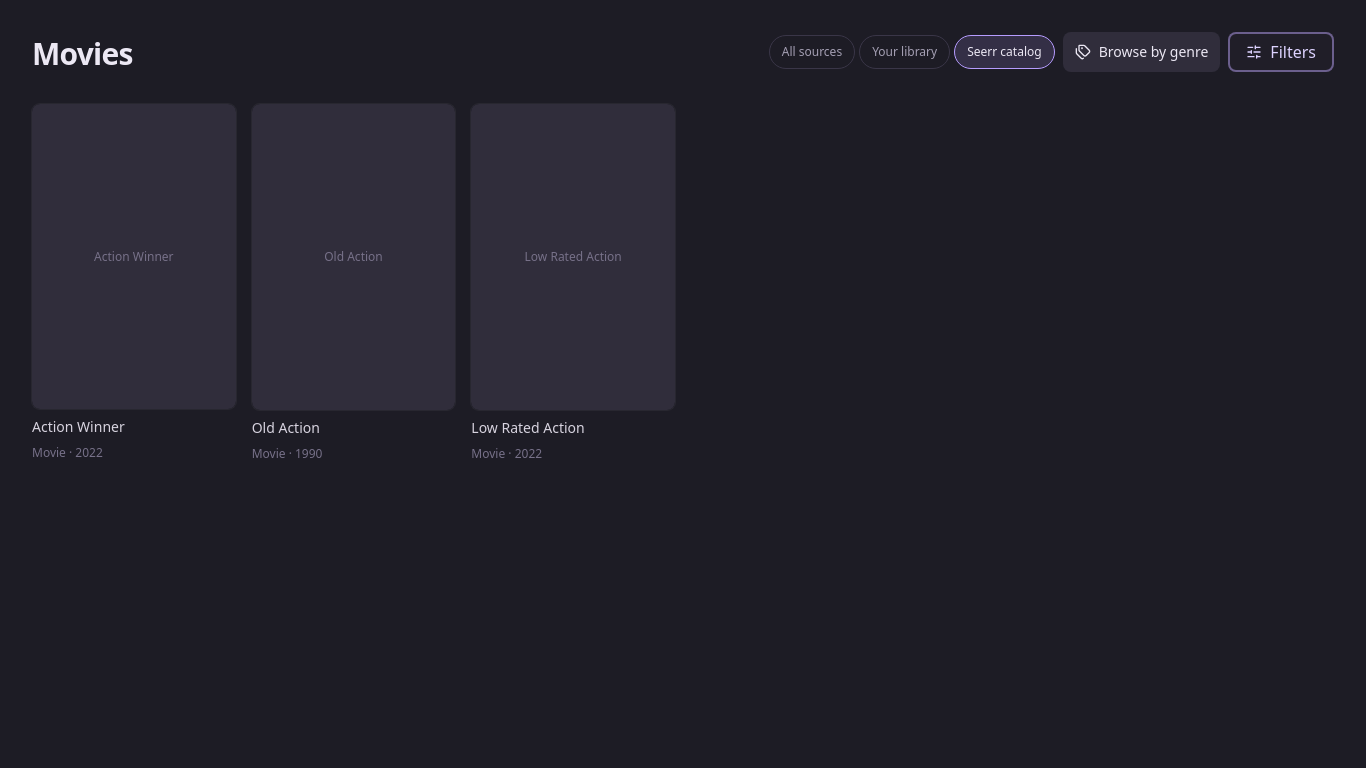
it: library filters UI › shows the filter panel for Seerr and applies genre, year and rating filters
Click the button "Filters".
click(1281, 52)  # box [1228, 32, 1334, 72]
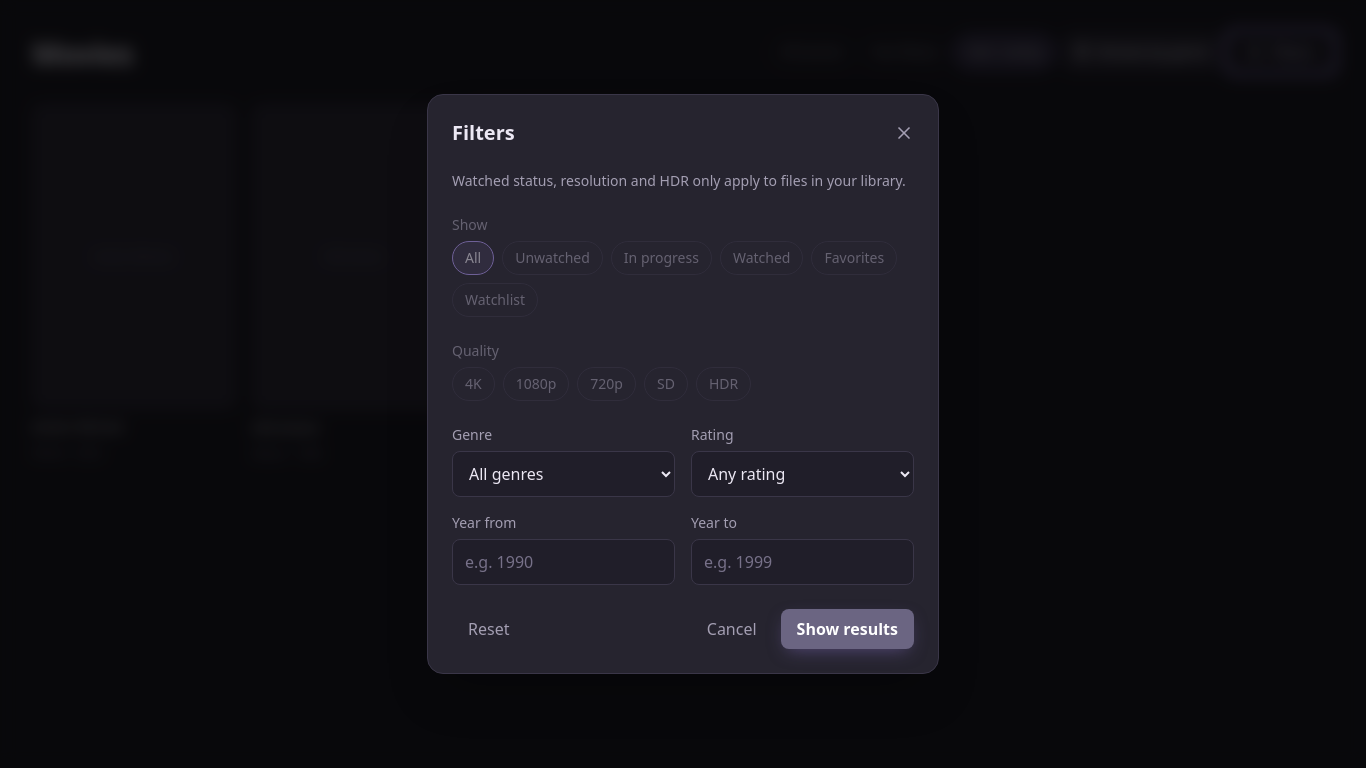
Result: the text "Watched status, resolution and HDR only apply to files in your library." is shown at [452, 171, 914, 191]
Result: the element "Unwatched" is disabled at [452, 215, 914, 317]
Select "Action" in the dropdown labelled "Genre" at (564, 474), box [452, 451, 675, 497]
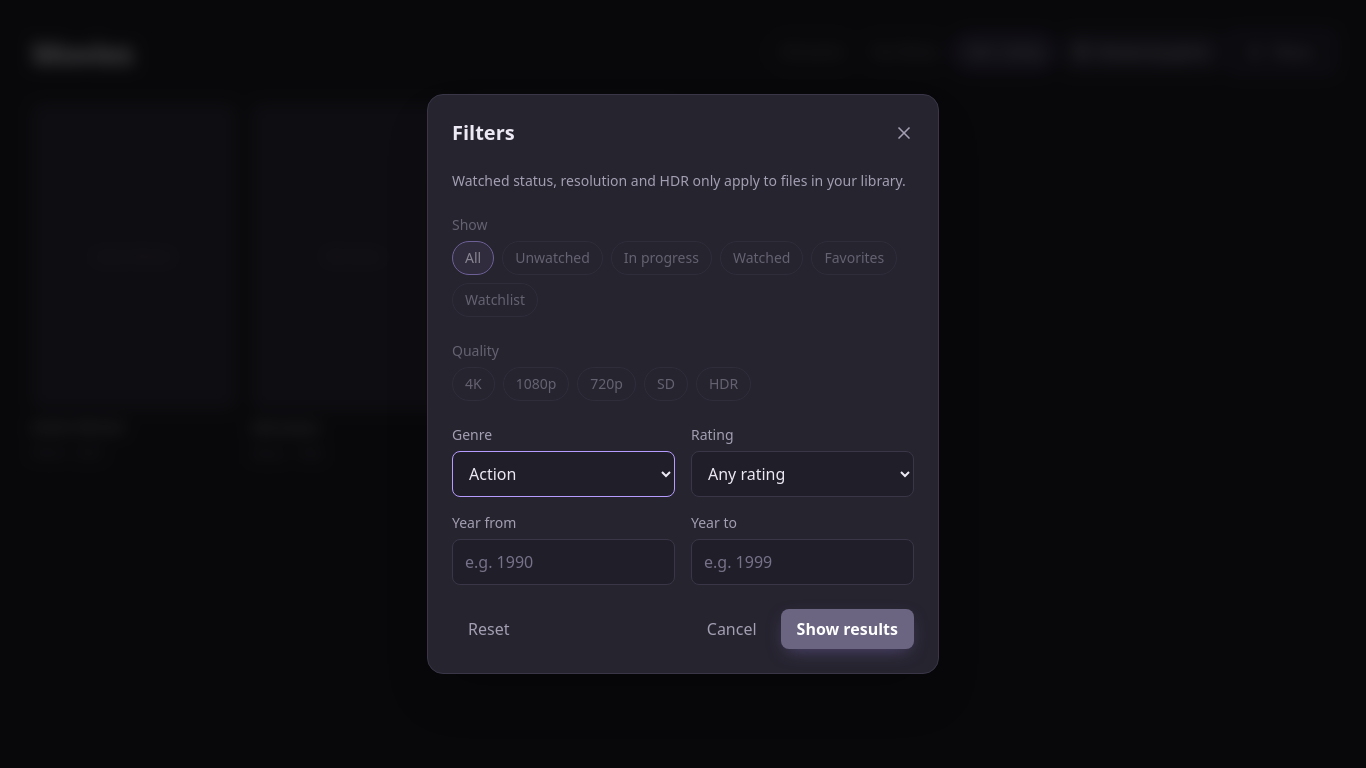
Select "7+" in the dropdown labelled "Rating" at (802, 474), box [691, 451, 914, 497]
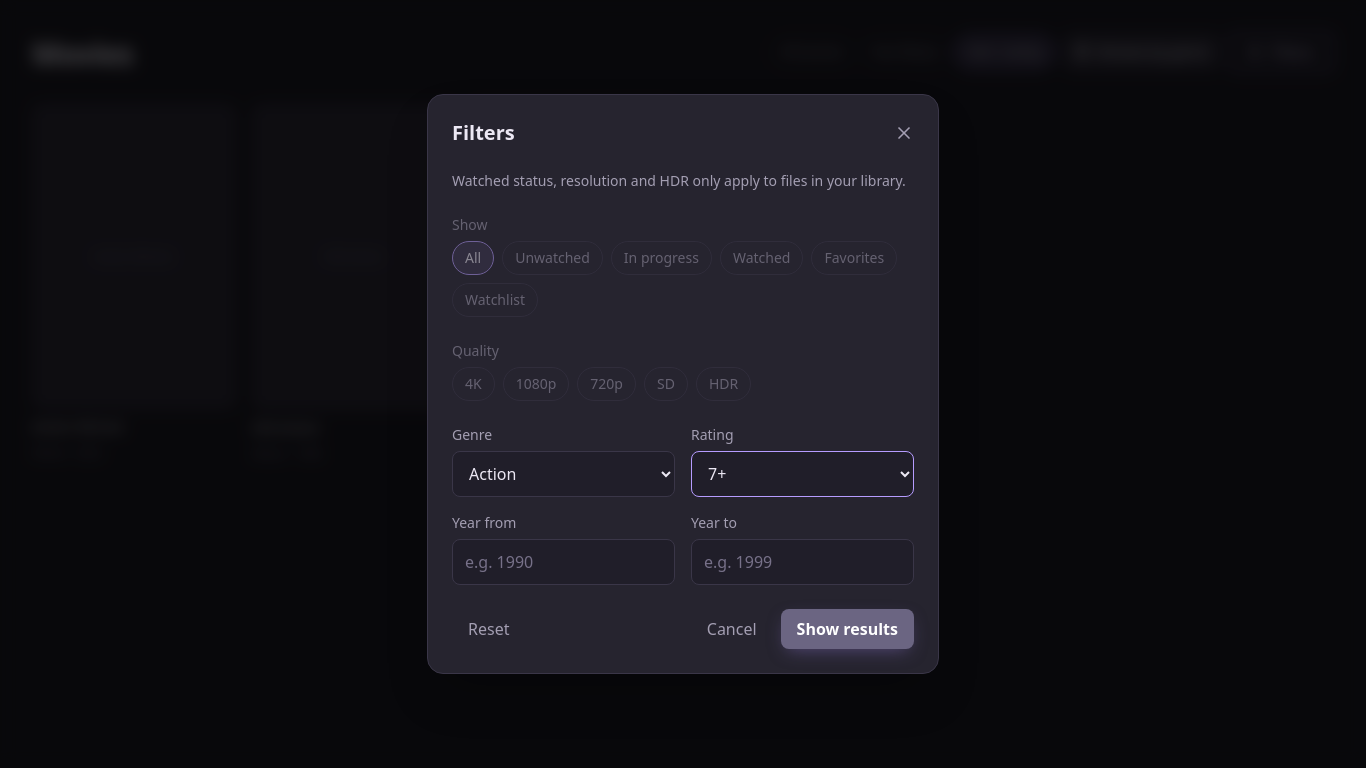
Type "2000" into the number field labelled "Year from".
click(564, 562); type("2000")  # box [452, 539, 675, 585]
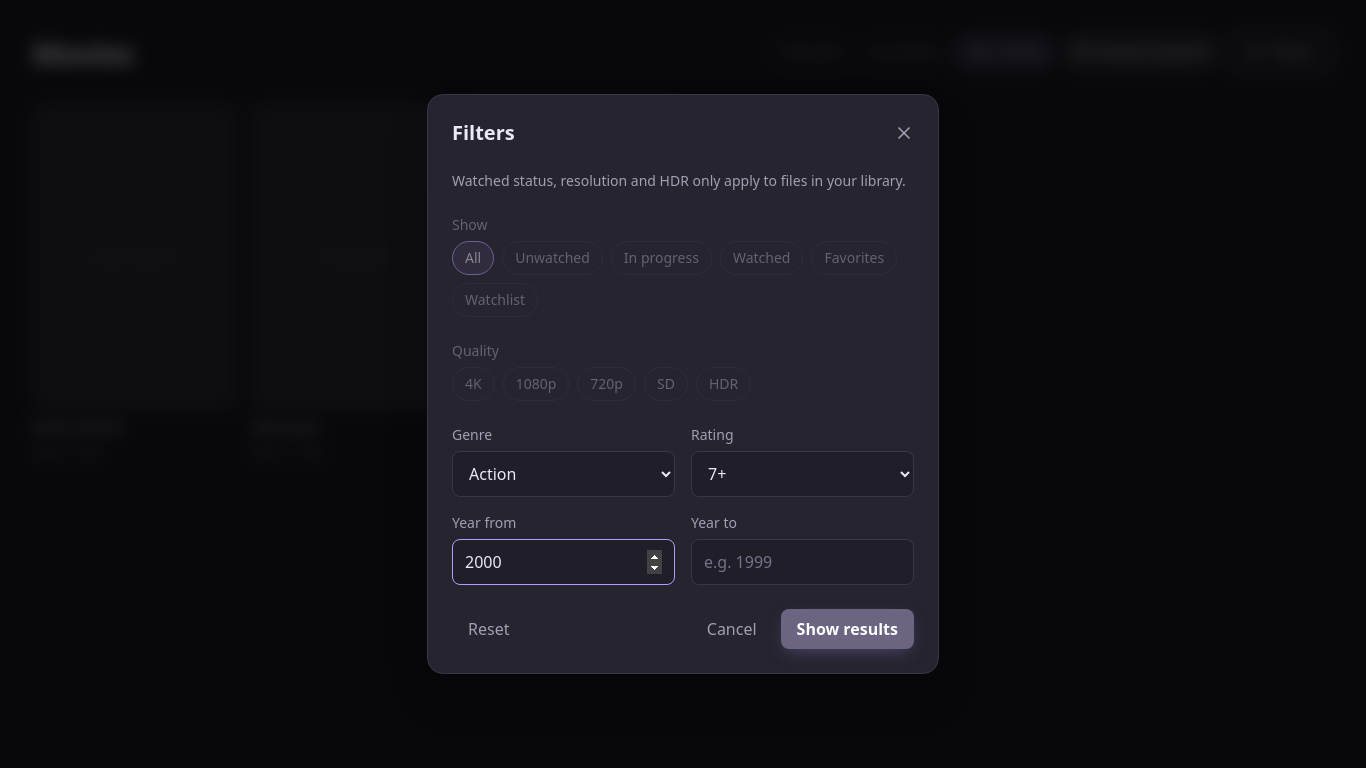
Click the button "Show results".
click(847, 629)  # box [781, 609, 914, 649]
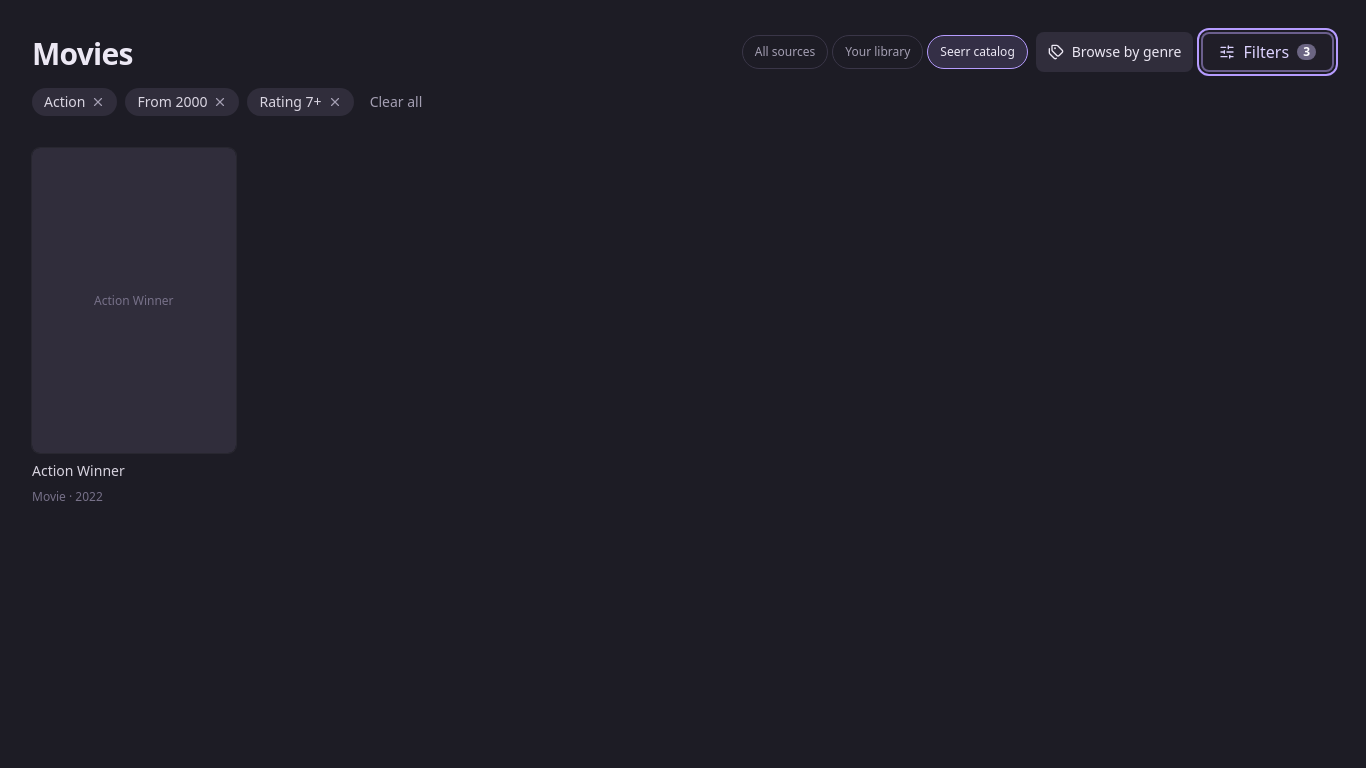
Expected: the button "Action Winner Action Winner Movie · 2022" is shown, [32, 148, 236, 506]
Result: the button "Old Action" is gone
Result: the button "Low Rated Action" is gone
